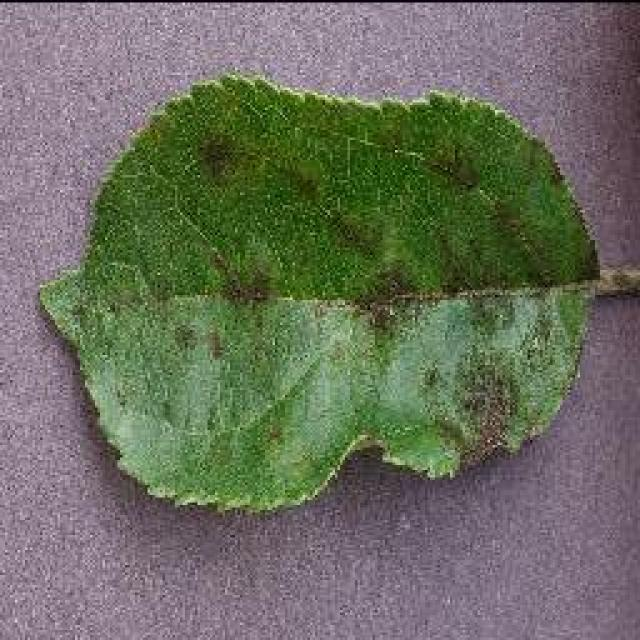apple scab disease: (35, 67, 623, 515)
